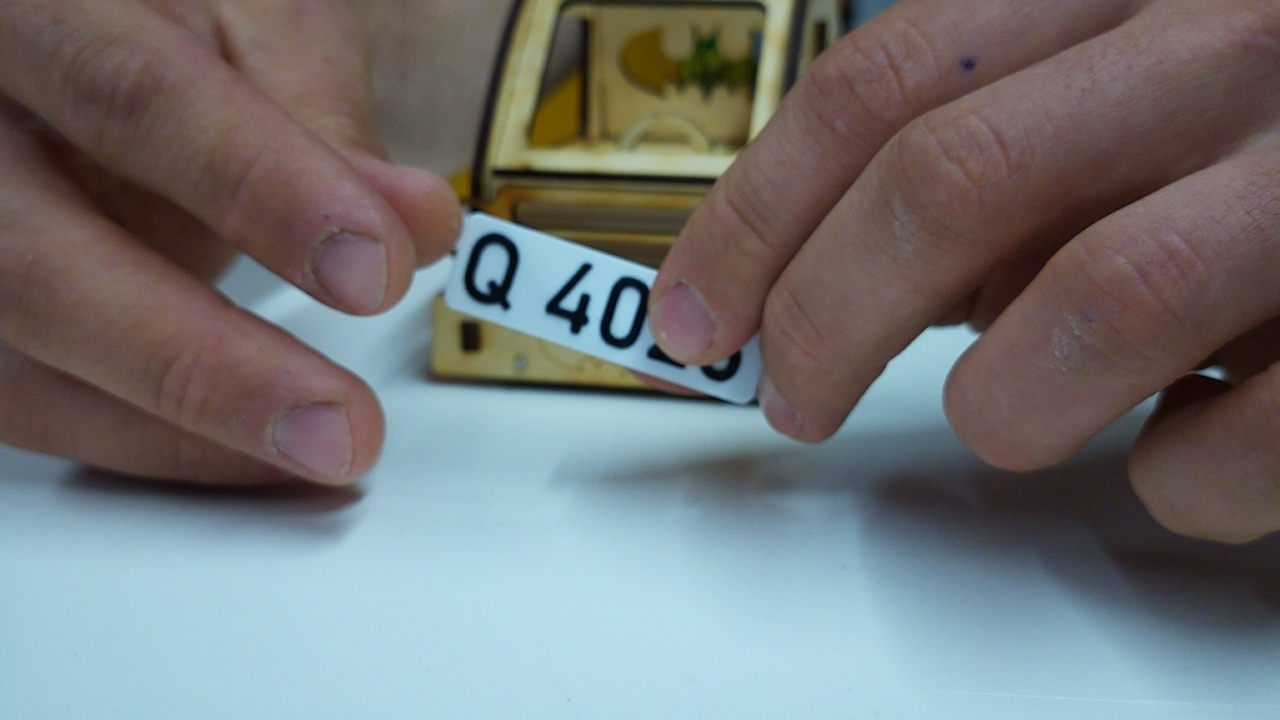license_plate: (440, 208, 772, 412)
